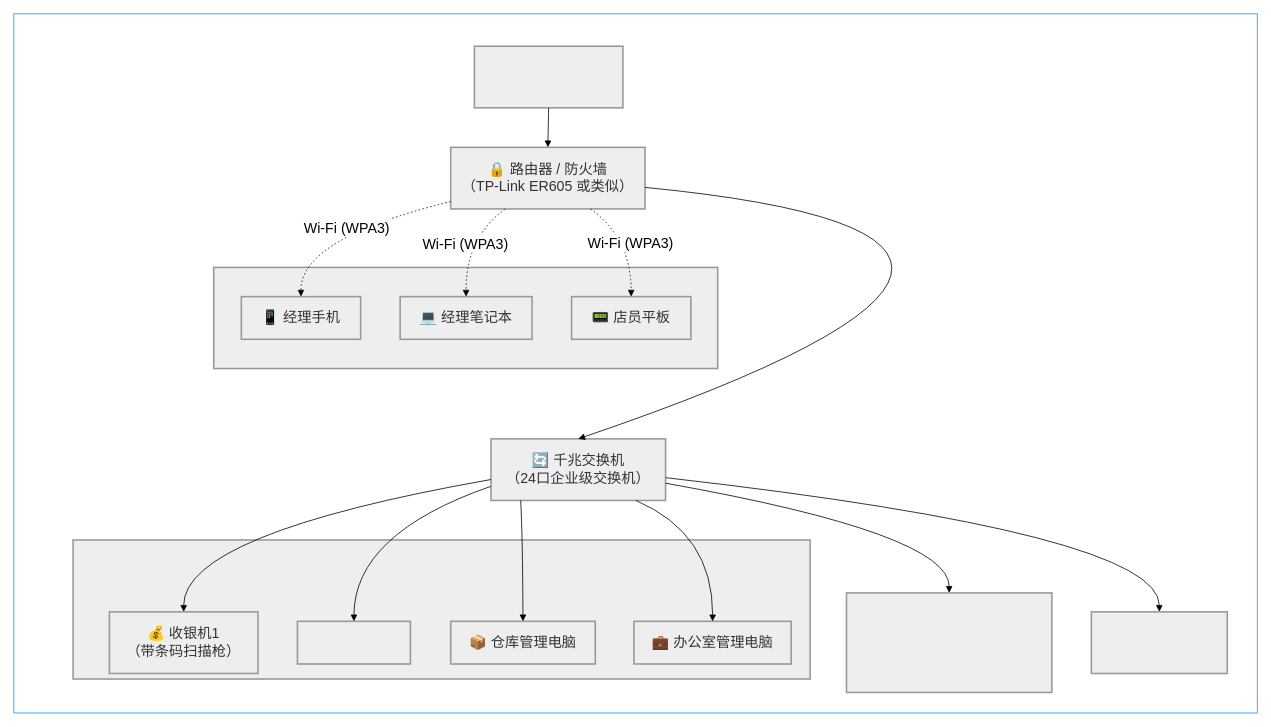
The diagram is 1271 pixels wide and 727 high, and some of its shapes have lost their labels. The shapes that lost their labels are listed below. From the top down, each one's box as (x1, y1, x2, y2) in pixels, then its label:
(473, 45, 623, 108): 🌐 Internet （可选远程访问）
(72, 539, 811, 679): 有线客户端区
(296, 620, 411, 664): 💰 收银机2
(845, 592, 1052, 693): 🖥️ 应用服务器 + 数据库服务器 （CPU i5 / 16GB RAM / 512GB SSD）
(1090, 611, 1228, 674): 🖨️ 小票打印机 （热敏打印机）
